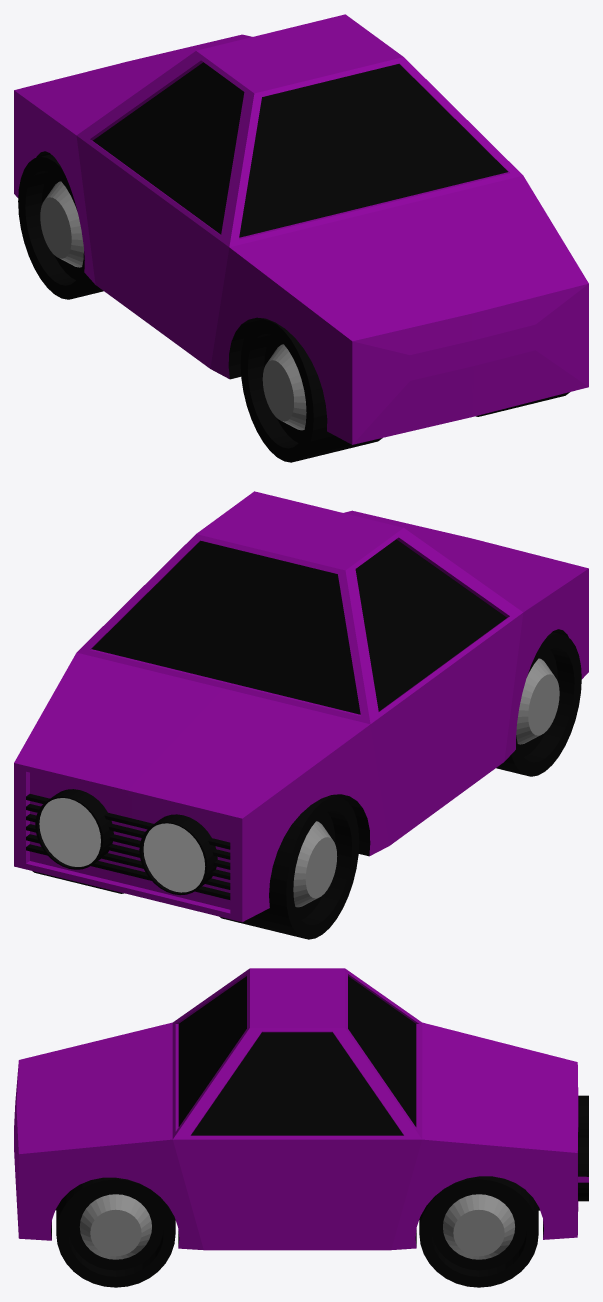
Rendered from car1.fbx.
The picture shows the model from 3 angles, top to bottom: view 1: azimuth 30°, elevation 25°; view 2: azimuth 150°, elevation 25°; view 3: azimuth 270°, elevation 25°; orthographic projection. The views are drawn at different scales.
Parts seen in each view (by area): view 1: Cube, Cylinder.001; view 2: Cube, Cylinder.001; view 3: Cube, Cylinder.001.
Boxes of the visible parts, left/top/right/bottom form: Cube: left=14, top=14, right=588, bottom=444; Cylinder.001: left=18, top=154, right=569, bottom=462; Cube: left=14, top=491, right=588, bottom=922; Cylinder.001: left=32, top=632, right=581, bottom=939; Cube: left=14, top=968, right=588, bottom=1250; Cylinder.001: left=56, top=1176, right=538, bottom=1287.
Bounding box in the file's own units: 431 × 406 × 895.
